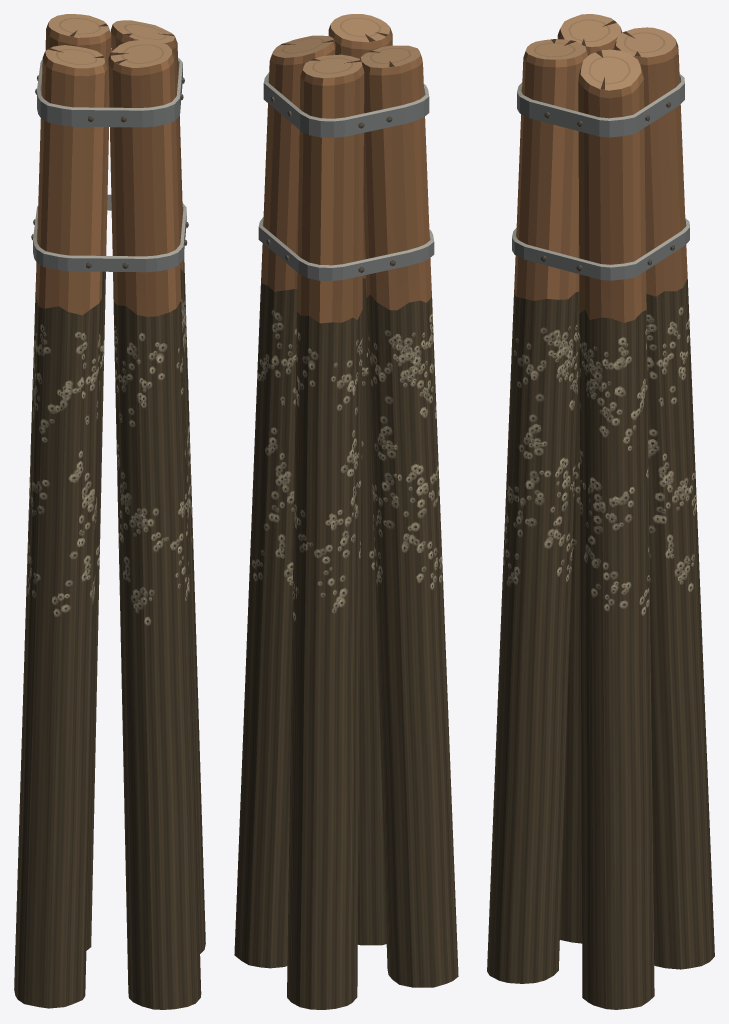
Rendered from timber_dolphin_small.glb.
3 renders of one model, left to right at view 1: azimuth 30°, elevation 25°; view 2: azimuth 150°, elevation 25°; view 3: azimuth 270°, elevation 25°, orthographic.
Visible parts, largest first — view 1: small timber 4, small timber 3, small timber 2, small timber 1, Rolled steel binding.001, Rolled steel binding; view 2: small timber 2, small timber 3, small timber 1, small timber 4, Rolled steel binding.001, Rolled steel binding; view 3: small timber 1, small timber 4, small timber 2, small timber 3, Rolled steel binding.001, Rolled steel binding.
Part boxes in pixels (box(x1,y1,x2,y2)): small timber 4: box(108, 40, 201, 1009); small timber 3: box(14, 45, 107, 1008); small timber 2: box(45, 14, 110, 950); small timber 1: box(110, 20, 205, 953); Rolled steel binding.001: box(37, 50, 182, 127); Rolled steel binding: box(33, 194, 186, 272); small timber 2: box(287, 54, 364, 1009); small timber 3: box(360, 45, 458, 987); small timber 1: box(234, 35, 335, 968); small timber 4: box(328, 14, 392, 945); Rolled steel binding.001: box(263, 72, 429, 137); Rolled steel binding: box(258, 217, 434, 280); small timber 1: box(578, 49, 654, 1009); small timber 4: box(487, 39, 587, 983); small timber 2: box(614, 27, 714, 969); small timber 3: box(557, 14, 622, 943); Rolled steel binding.001: box(517, 74, 684, 137); Rolled steel binding: box(512, 218, 689, 280).
Bounding box in the file's own units: 2.18 × 9.67 × 2.18.
Materials: 14 (1 with a texture image).
